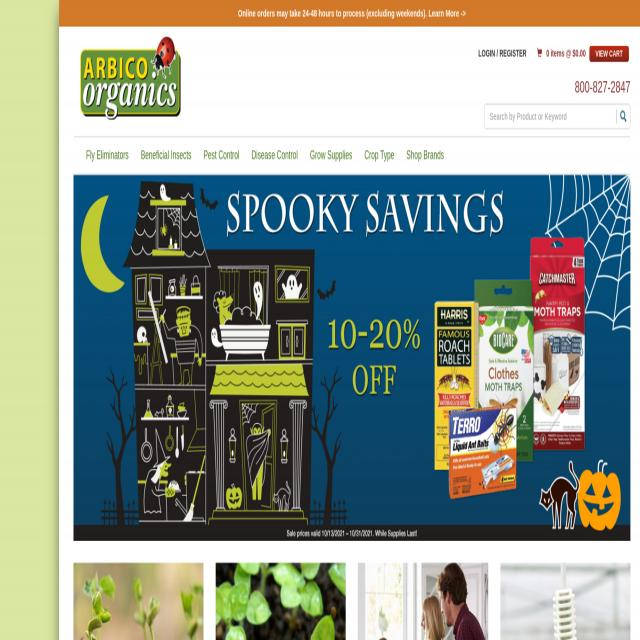button: (74, 174, 630, 541), (500, 562, 631, 640), (215, 562, 346, 640), (356, 563, 488, 640), (73, 562, 203, 640), (79, 36, 181, 121), (134, 137, 198, 174), (246, 137, 304, 174), (80, 137, 135, 174), (304, 137, 358, 174), (400, 137, 450, 174), (198, 137, 245, 174), (358, 137, 401, 174), (590, 45, 629, 62), (616, 103, 631, 128)
field: (484, 105, 630, 129)
